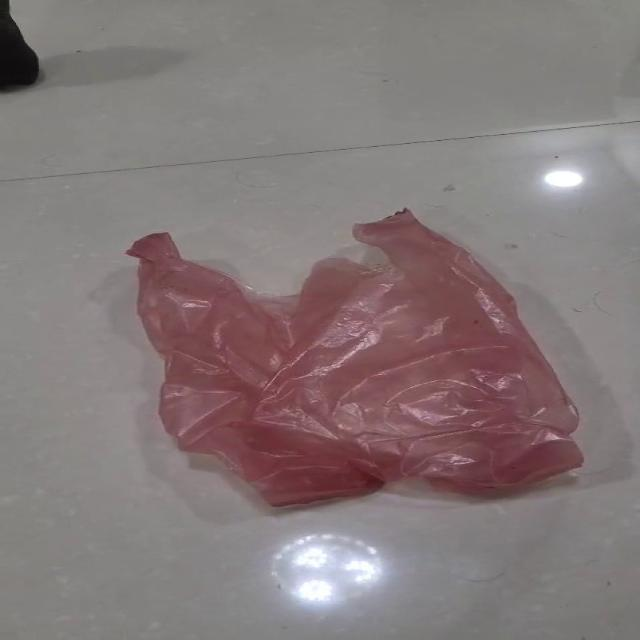plastic: (123, 206, 585, 508)
